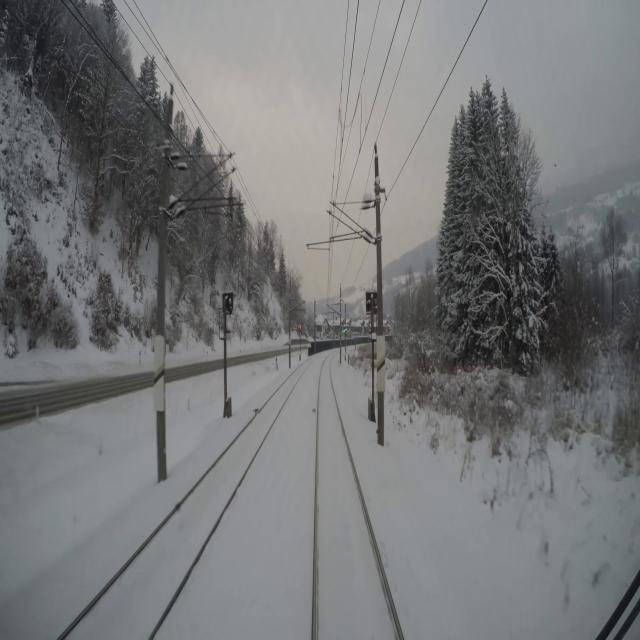rail-track: (64, 366, 304, 639), (316, 359, 398, 639)
